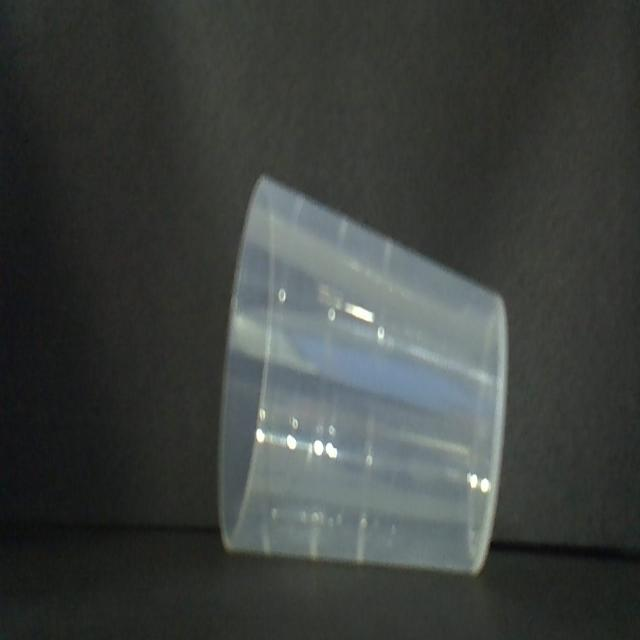cup: (215, 173, 512, 583)
